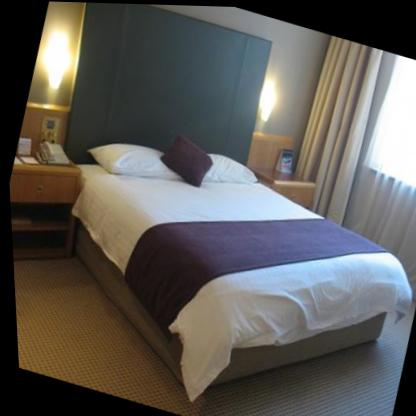Bed: (3, 80, 416, 416)
